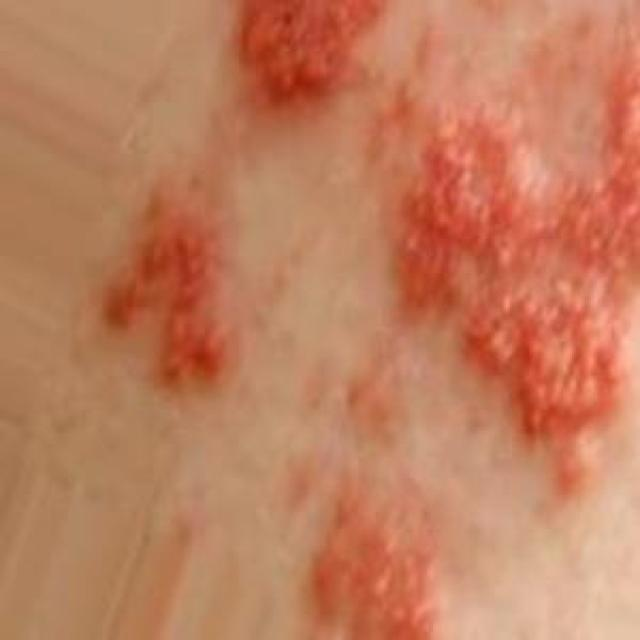Shingles: (395, 86, 640, 492), (96, 186, 246, 394), (304, 474, 455, 640), (221, 0, 389, 126)
